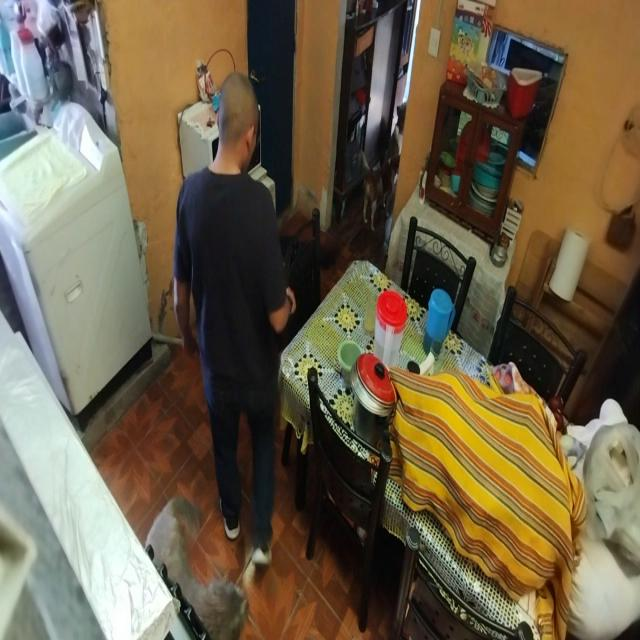adult: (172, 71, 300, 583)
